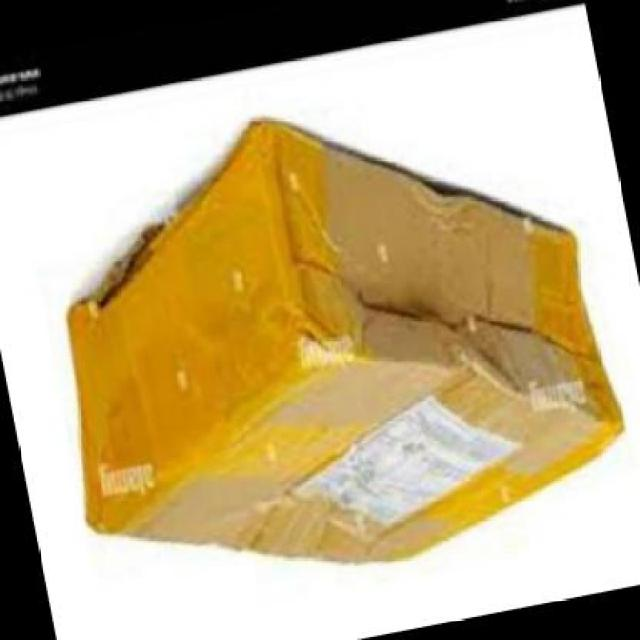box: (18, 49, 640, 625)
